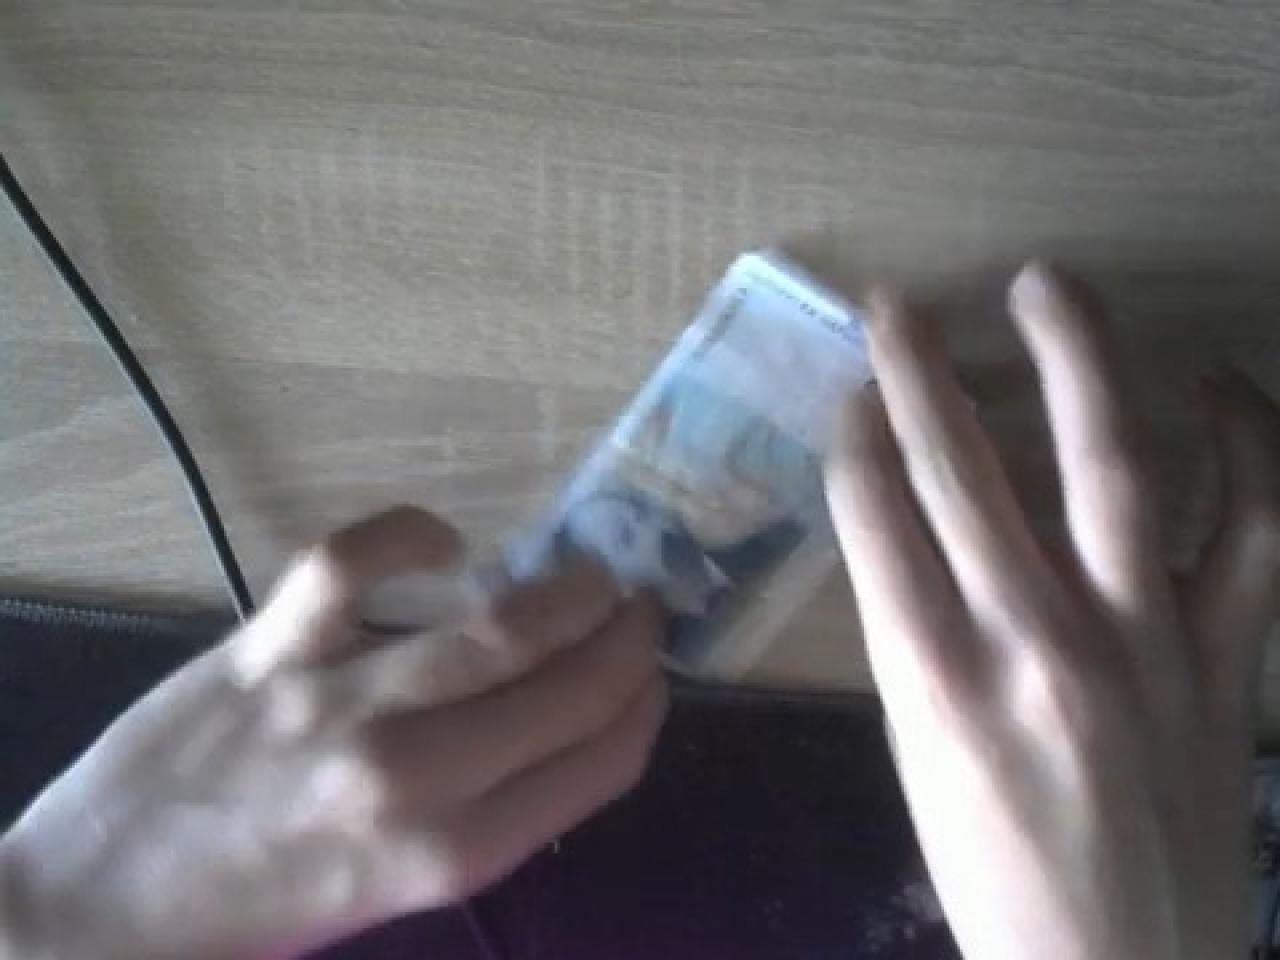20leva: (496, 245, 875, 683)
